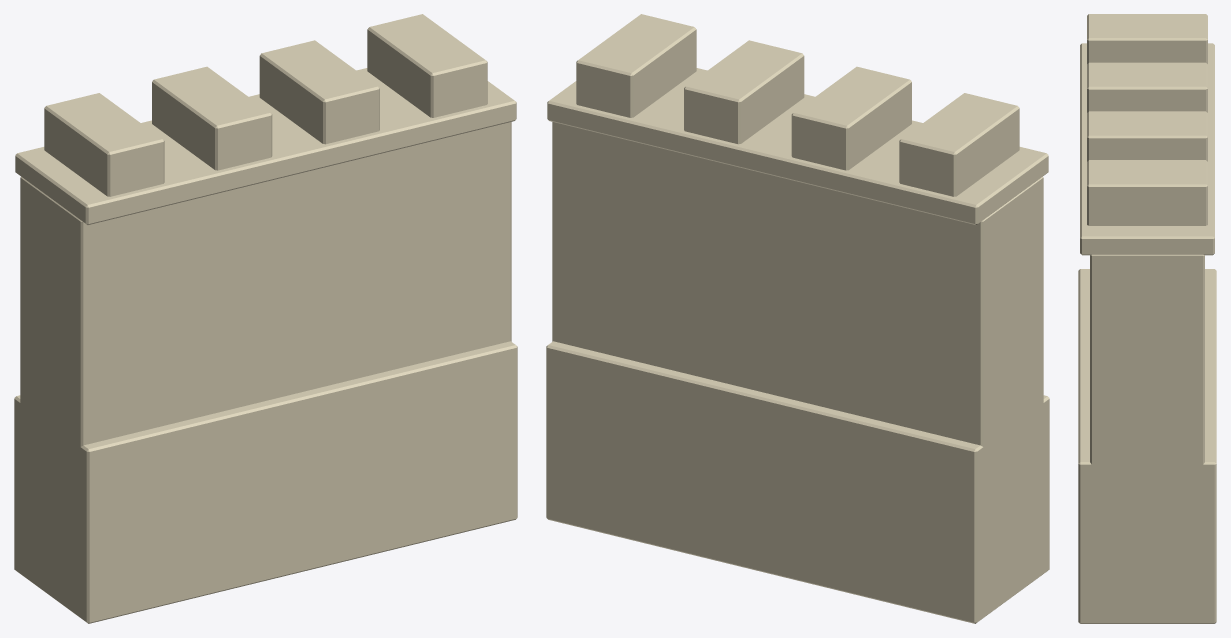
The model's file is low_city_wall_8m.glb.
The picture shows the model from 3 angles, left to right: view 1: azimuth 30°, elevation 25°; view 2: azimuth 150°, elevation 25°; view 3: azimuth 270°, elevation 25°; orthographic projection. The views are drawn at different scales.
Visible parts, largest first — view 1: low_city_wall_8m; view 2: low_city_wall_8m; view 3: low_city_wall_8m.
Boxes of the visible parts, bbox=[...] form: low_city_wall_8m: bbox=[14, 14, 517, 623]; low_city_wall_8m: bbox=[546, 14, 1049, 623]; low_city_wall_8m: bbox=[1078, 14, 1216, 623].
Size of the model in its own units: 8 by 8.2 by 2.4.
